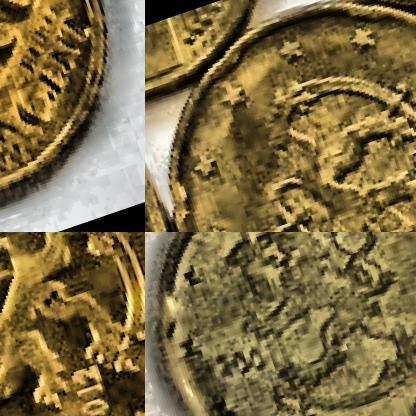coin: (145, 0, 415, 231), (145, 232, 415, 415), (0, 0, 144, 231), (0, 232, 144, 415)
